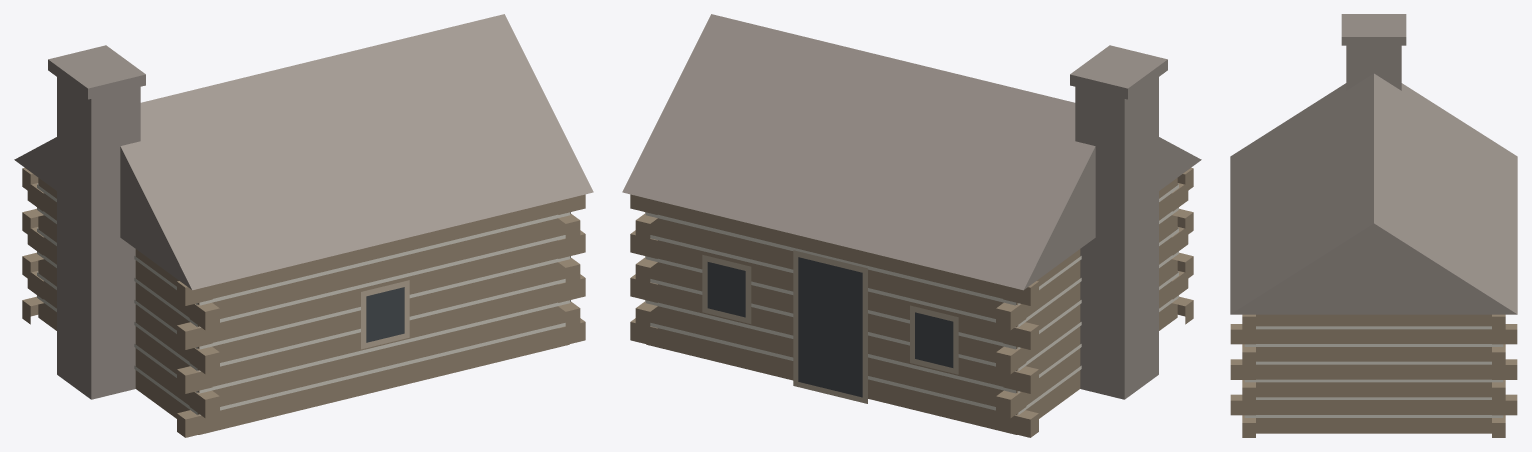
File: blacksmith_shop_state_st__log_1823.glb
3 renders of one model, left to right at view 1: azimuth 30°, elevation 25°; view 2: azimuth 150°, elevation 25°; view 3: azimuth 270°, elevation 25°, orthographic. The views are drawn at different scales.
Visible parts, largest first — view 1: blacksmith_shop_state_st__log_1823; view 2: blacksmith_shop_state_st__log_1823; view 3: blacksmith_shop_state_st__log_1823.
Boxes of the visible parts, x1,y1,x2,y2 form: blacksmith_shop_state_st__log_1823: [14, 14, 593, 437]; blacksmith_shop_state_st__log_1823: [622, 14, 1201, 437]; blacksmith_shop_state_st__log_1823: [1230, 14, 1517, 437].
Bounding box in the file's own units: 7.07 × 4.94 × 5.
